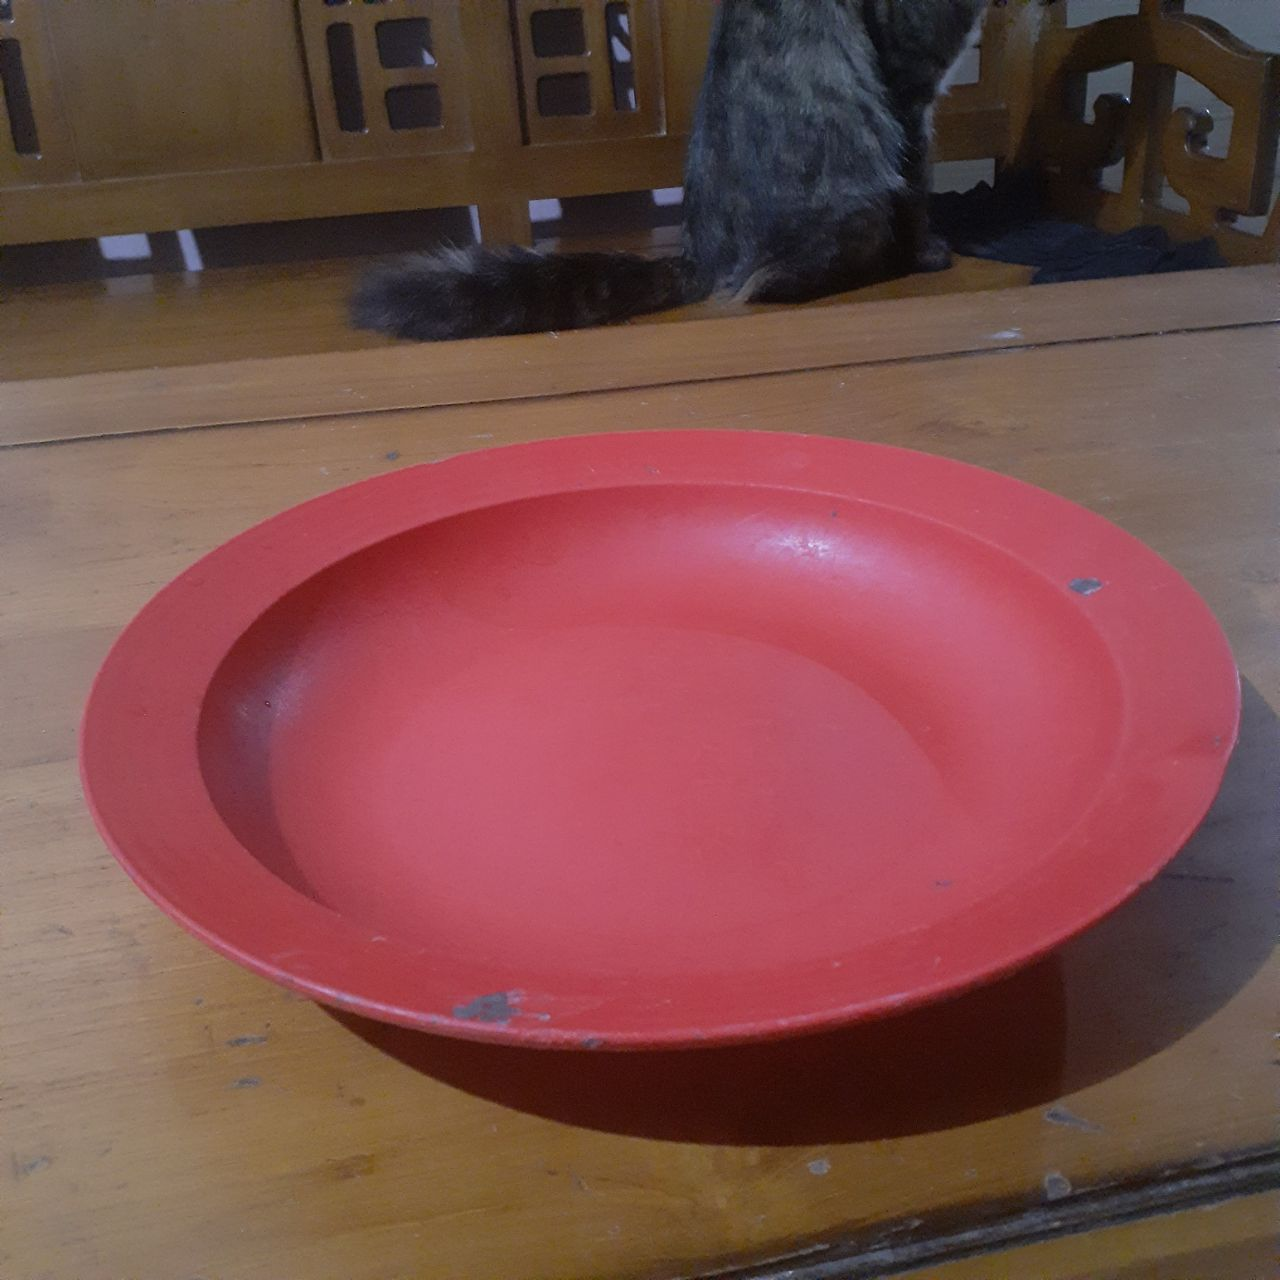piring: (82, 418, 1241, 1067)
